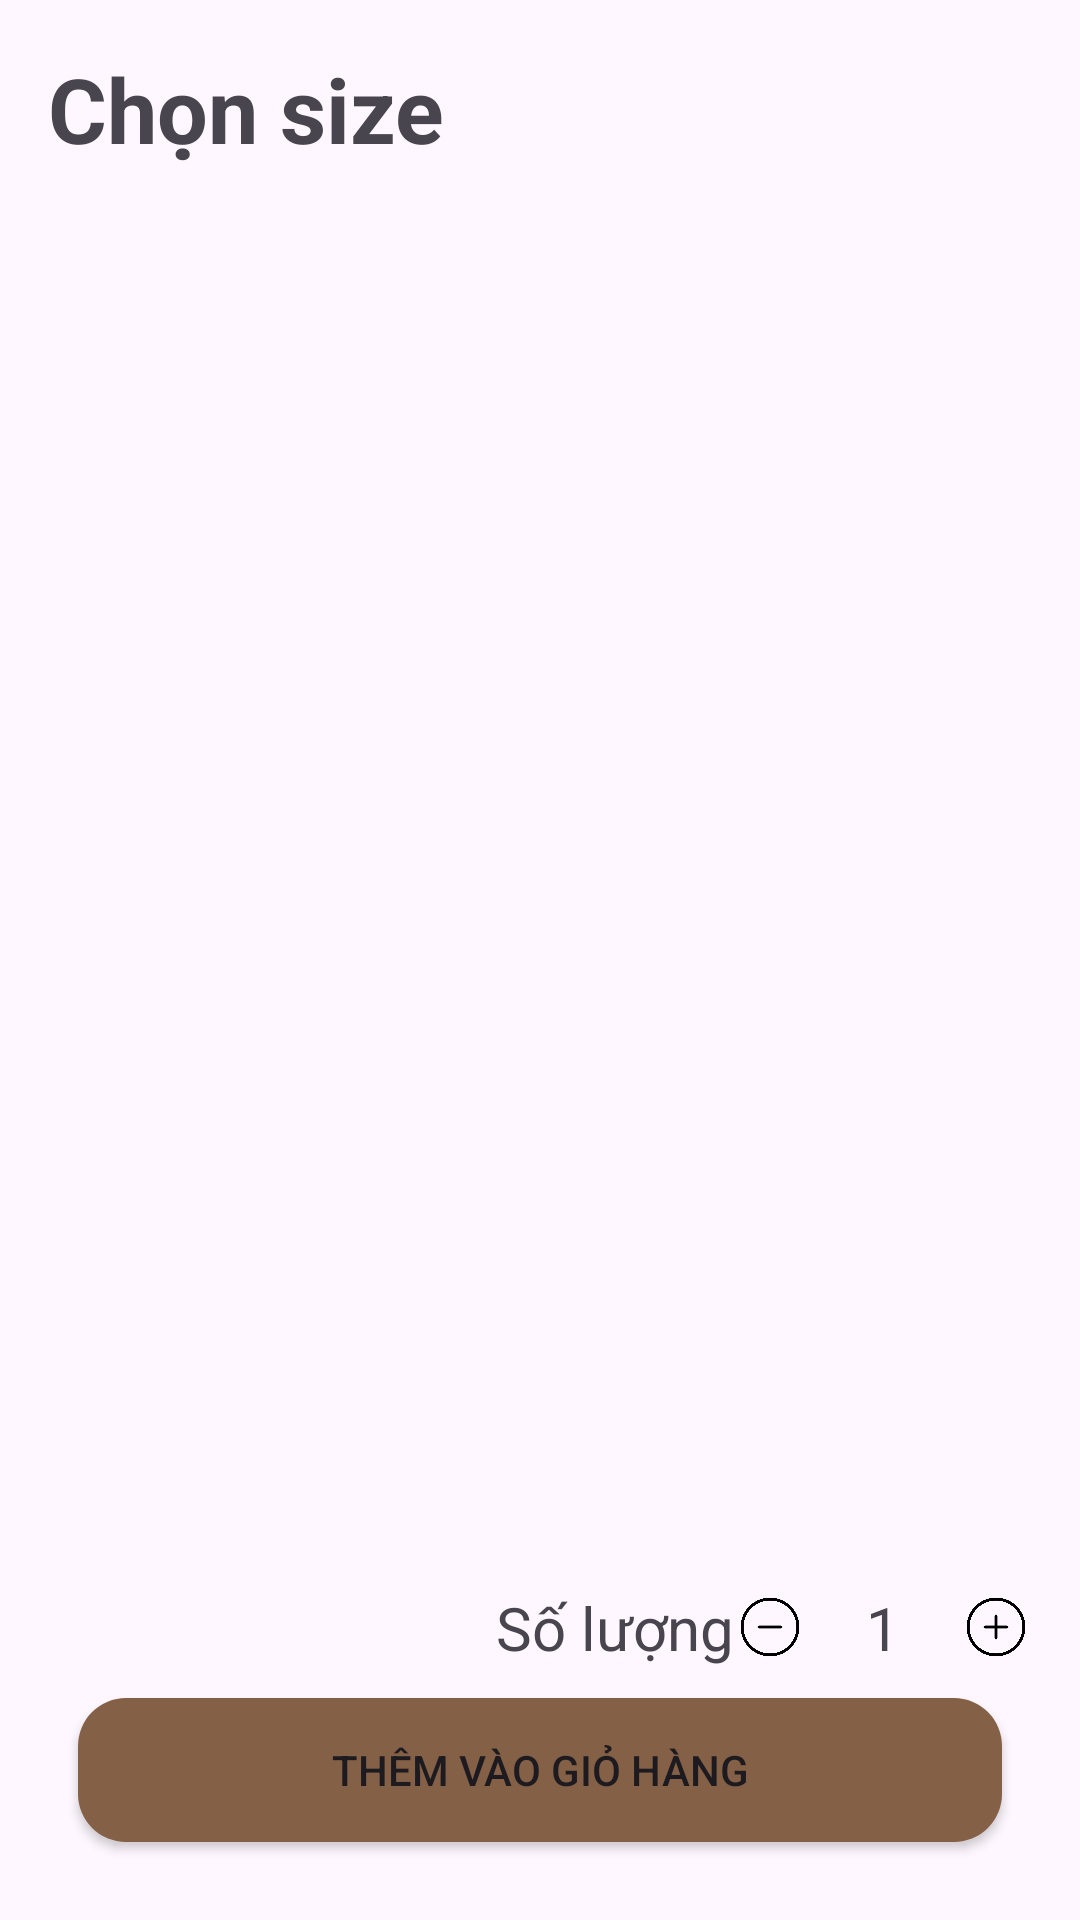

Icons on this 1080×1920 Android screen, each with its box as region(x1, y1, x2, y2):
minus: region(741, 1598, 799, 1656)
plus: region(967, 1598, 1025, 1656)
